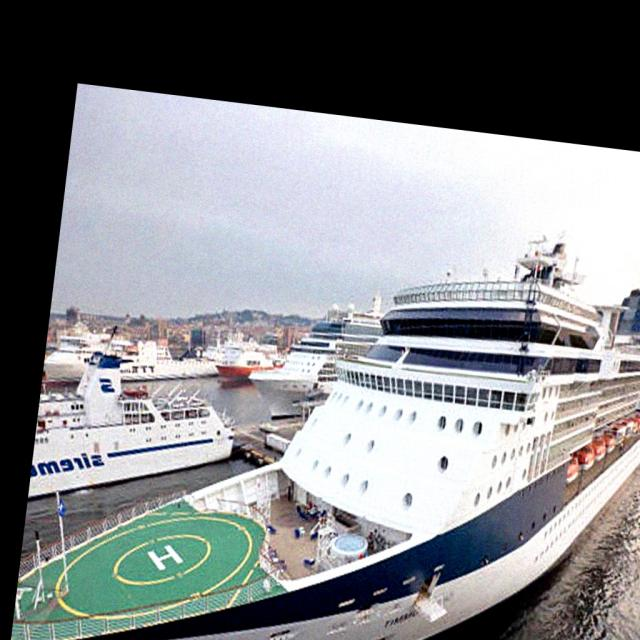helipad: (108, 531, 214, 586)
